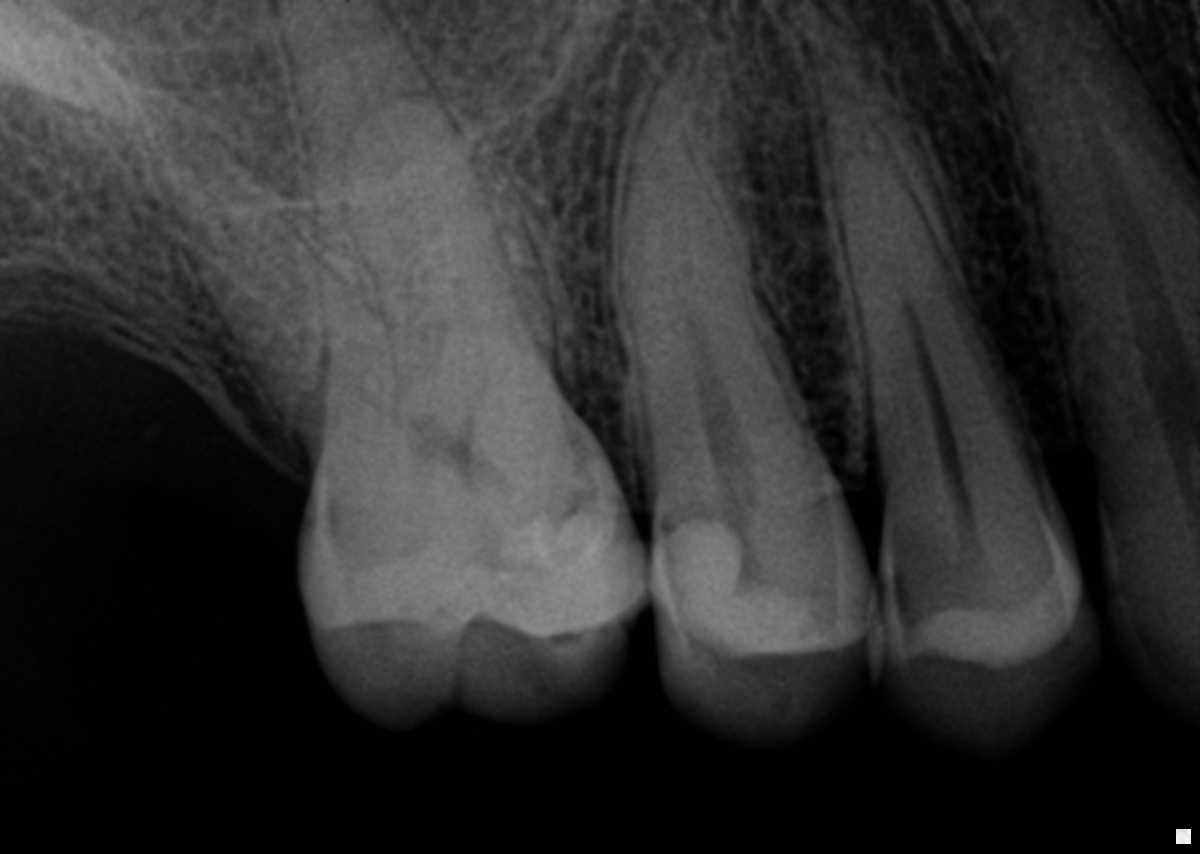Distal Canal: (273, 289, 403, 431)
Distal Root: (136, 85, 416, 450)
Main Canal: (1014, 2, 1200, 505), (684, 218, 762, 516), (902, 295, 978, 535)
Main Root: (794, 7, 1057, 539), (956, 0, 1200, 522), (618, 29, 835, 532)
Mesial Canal: (454, 282, 484, 441)
Mesial Root: (336, 93, 556, 449)
Palatal Root: (272, 0, 573, 431)
decay: (889, 518, 985, 621)
